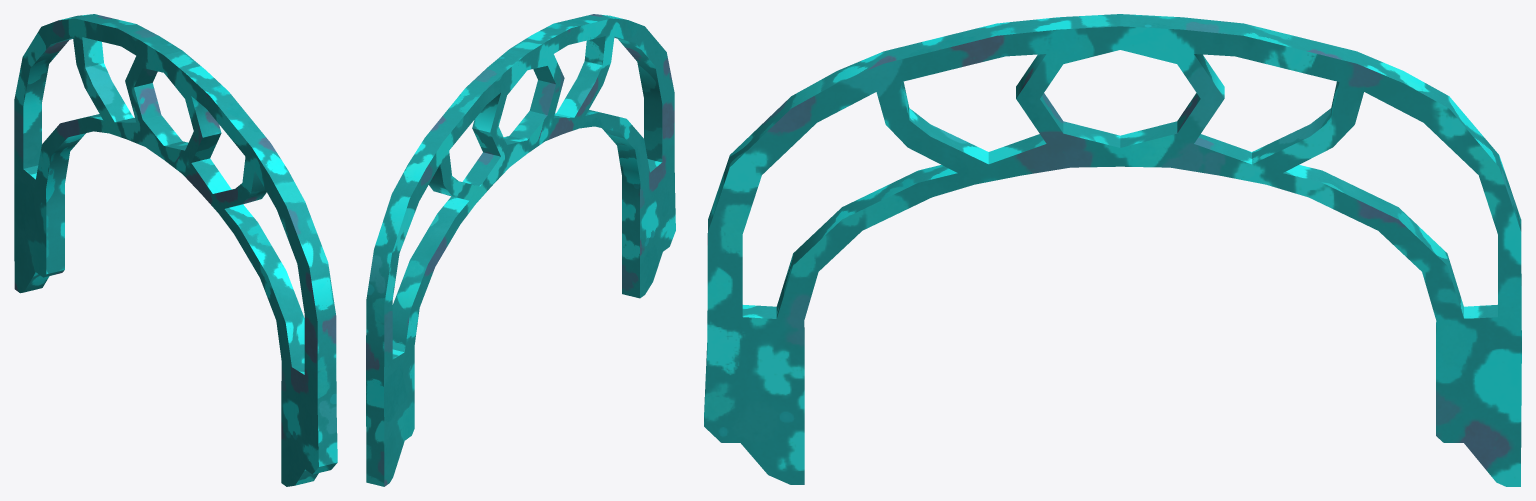
File: Bridge_Corner.fbx
3 views of the same model, side by side, from view 1: azimuth 30°, elevation 25°; view 2: azimuth 150°, elevation 25°; view 3: azimuth 270°, elevation 25° (orthographic). The views are drawn at different scales.
Parts seen in each view (by area): view 1: Bridge_Principal_Corner_Left; view 2: Bridge_Principal_Corner_Left; view 3: Bridge_Principal_Corner_Left.
Part boxes in pixels (bbox=[...]): Bridge_Principal_Corner_Left: bbox=[14, 14, 337, 486]; Bridge_Principal_Corner_Left: bbox=[366, 14, 675, 486]; Bridge_Principal_Corner_Left: bbox=[704, 14, 1521, 486].
Size of the model in its own units: 20.9 by 364 by 585.
